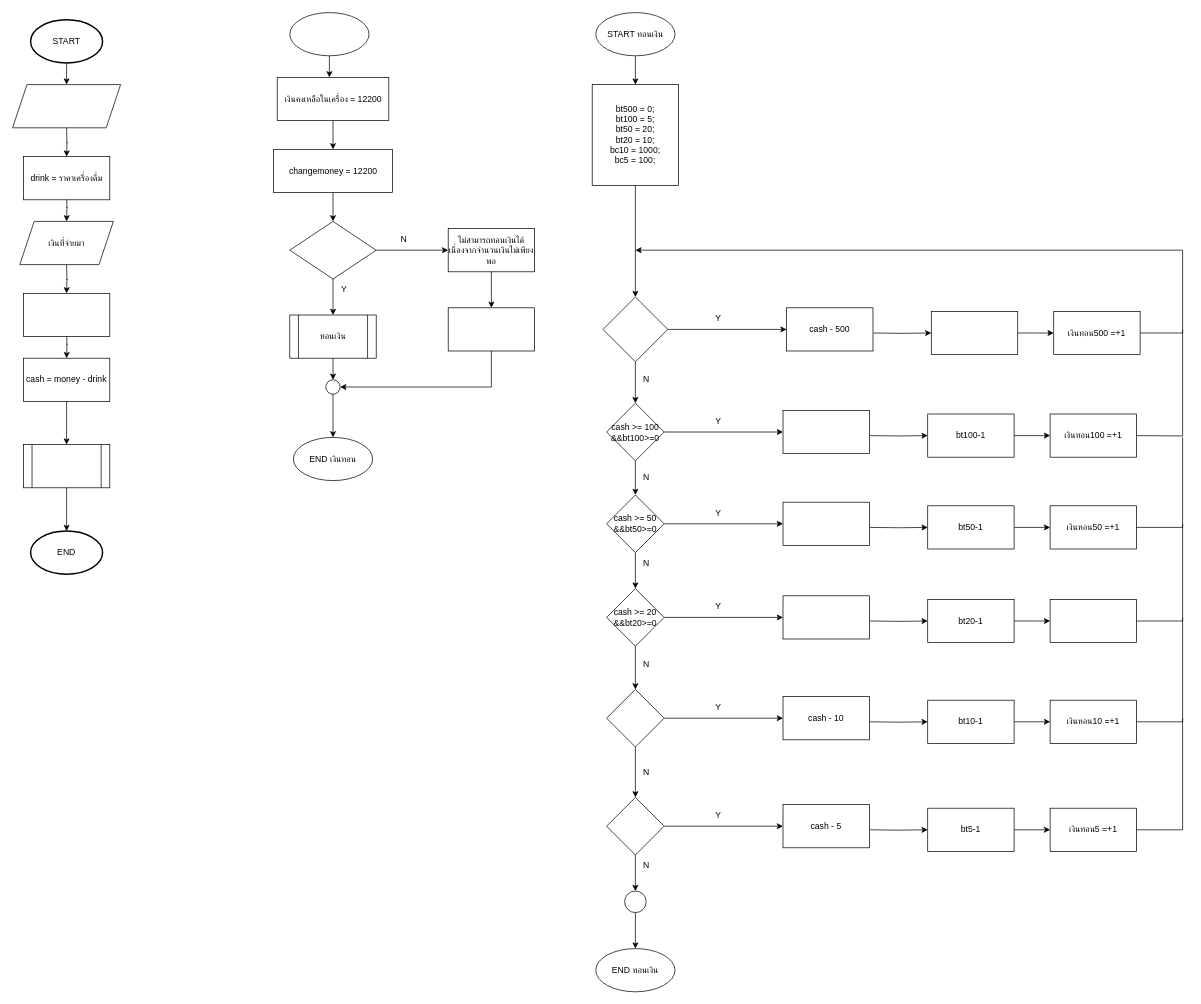
This 1201x1004 diagram has some shape labels left out. Each missing label, with the centre of its shape:
"bt500-1" belongs at point 974,333.
"cash - 100" belongs at point 825,432.
"cash - 20" belongs at point 825,617.
"cash - 50" belongs at point 825,523.
"cash >= 10 &&bt10>=0" belongs at point 635,718.
"cash >= 5 &&bt5>=0" belongs at point 635,826.
"cash >= 500 &&bt500>=0" belongs at point 635,329.
"changemoney >= cash" belongs at point 332,250.
"money = เงินที่รับมา" belongs at point 66,315.
"START เงินทอน" belongs at point 329,34.
"คืนเงินให้ลูกค้า" belongs at point 491,329.
"เงินทอน" belongs at point 66,466.
"เงินทอน20 =+1" belongs at point 1093,621.
"เลือกเครื่องดื่ม" belongs at point 66,106.
